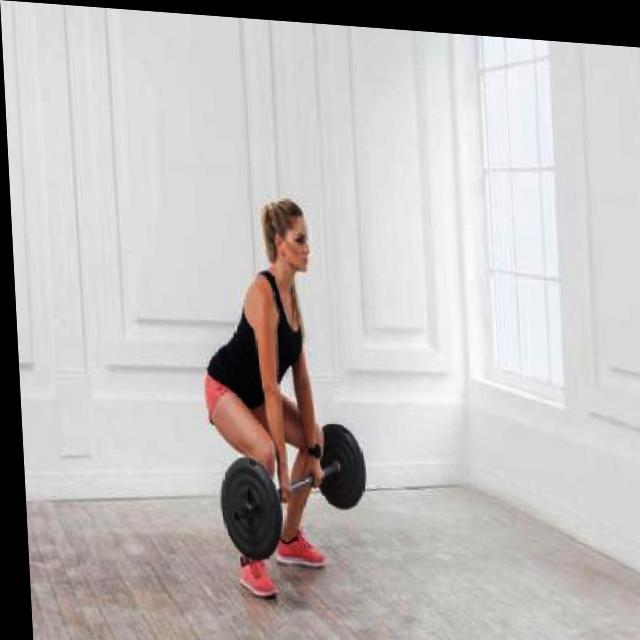barbell: (210, 447, 284, 563)
